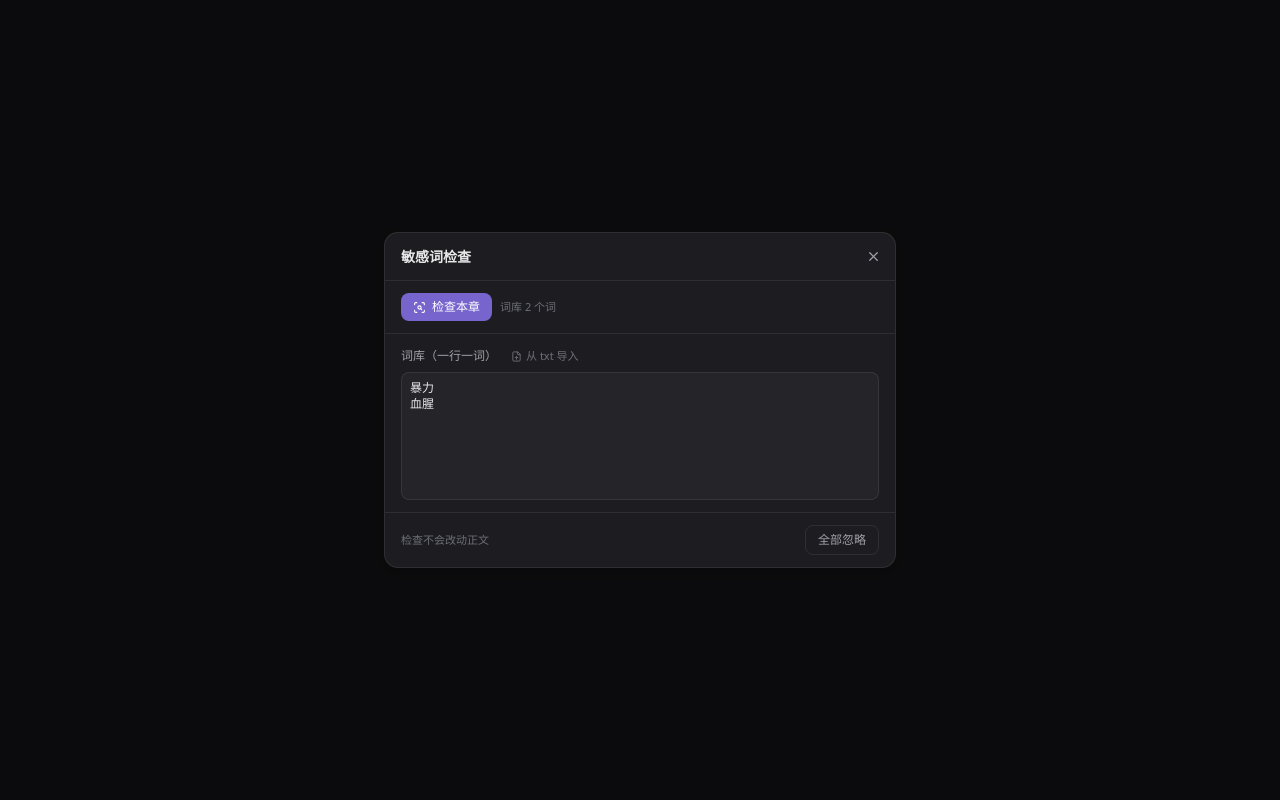
Test: SensitiveDialog › 检查本章列出命中与上下文
The image size is (1280, 800).
expect the text "词库 2 个词" is shown: met, box left=500, top=299, right=556, bottom=315
Step 1. Click the button "检查本章" → (446, 307), box left=401, top=293, right=492, bottom=321
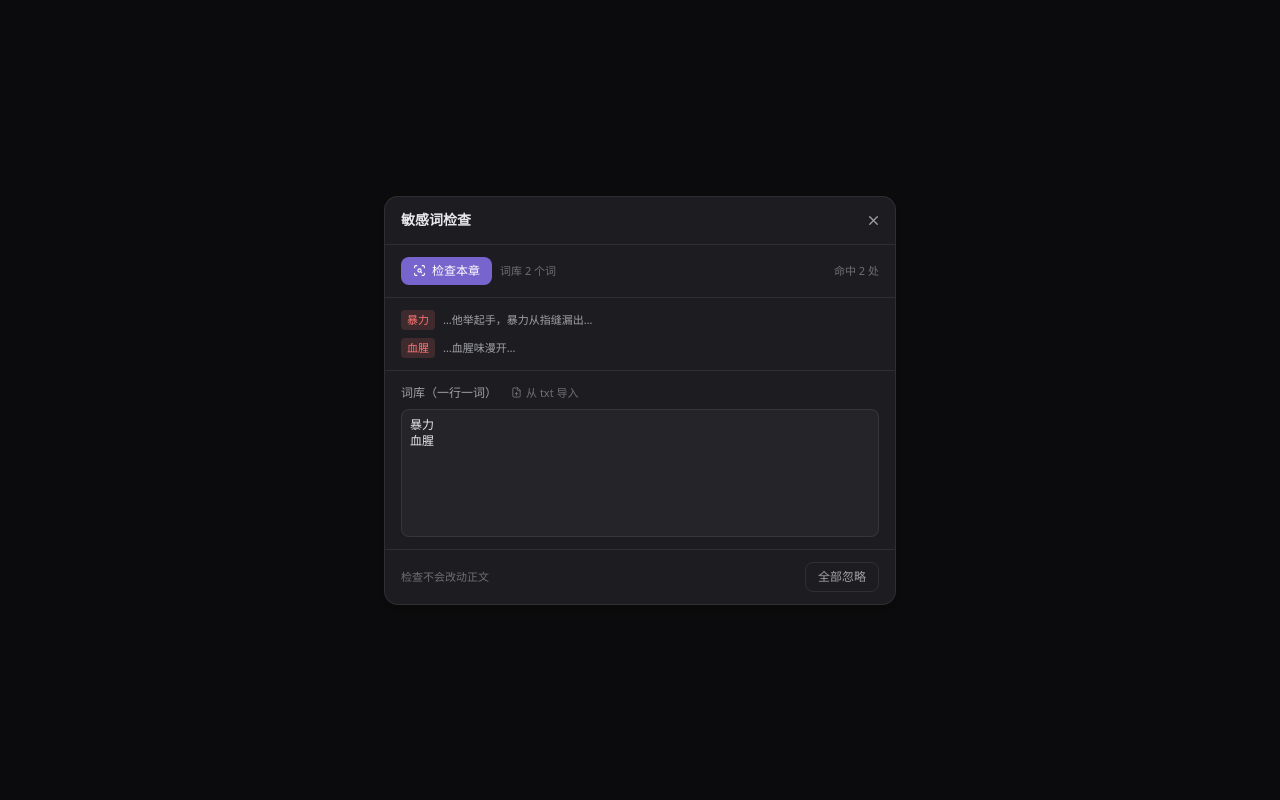
expect the text "暴力" is shown: met, box left=401, top=310, right=435, bottom=330
expect the text "血腥" is shown: met, box left=401, top=338, right=435, bottom=358
expect the text "命中 2 处" is shown: met, box left=834, top=262, right=879, bottom=278
